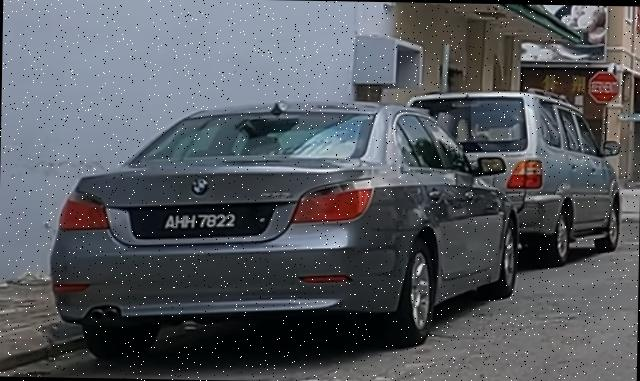License_Plate: (157, 213, 243, 232)
car: (49, 95, 524, 367)
